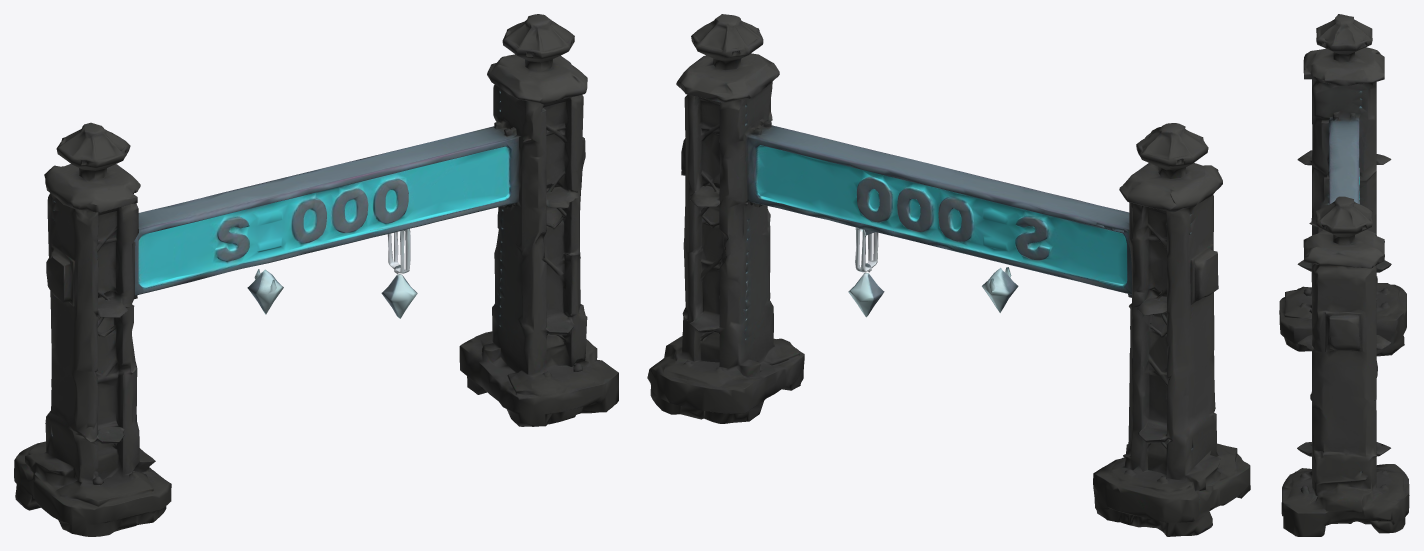
File: 能量屏障（滑铲）.glb
3 renders of one model, left to right at view 1: azimuth 30°, elevation 25°; view 2: azimuth 150°, elevation 25°; view 3: azimuth 270°, elevation 25°, orthographic. The views are drawn at different scales.
Parts seen in each view (by area): view 1: tripo_node_c862d803-6723-4b46-903c-6ff8d46038a5; view 2: tripo_node_c862d803-6723-4b46-903c-6ff8d46038a5; view 3: tripo_node_c862d803-6723-4b46-903c-6ff8d46038a5.
Boxes of the visible parts, <box> form: tripo_node_c862d803-6723-4b46-903c-6ff8d46038a5: <box>14,14,618,536</box>; tripo_node_c862d803-6723-4b46-903c-6ff8d46038a5: <box>647,14,1250,536</box>; tripo_node_c862d803-6723-4b46-903c-6ff8d46038a5: <box>1279,14,1409,536</box>.
Bounding box in the file's own units: 1 × 0.6551 × 0.2427.
Materials: 1 (1 with a texture image).
